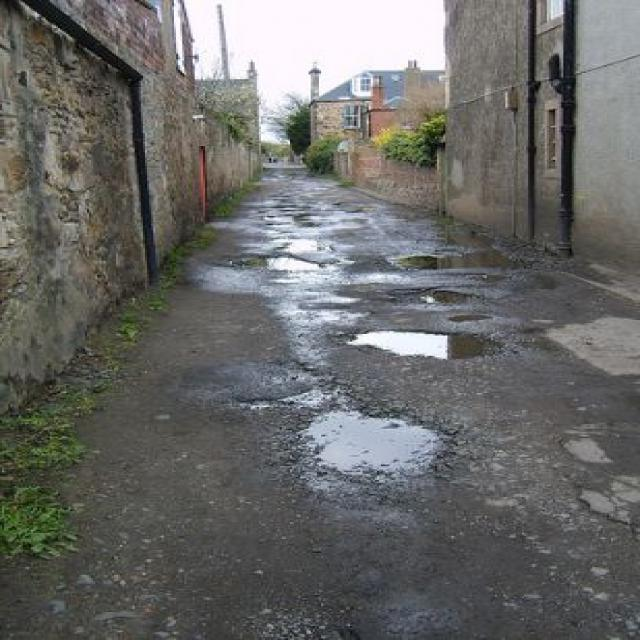Pothole: (297, 395, 462, 485), (346, 322, 506, 357)
